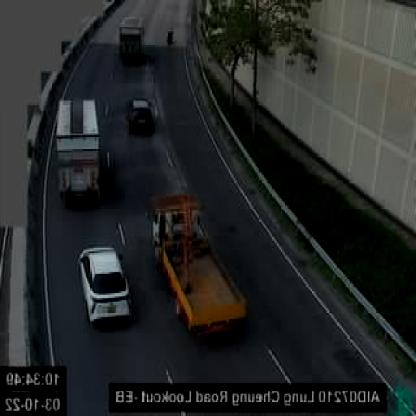Car: (79, 243, 133, 322), (129, 99, 153, 135)
Truck: (149, 194, 247, 333), (57, 97, 102, 205), (119, 14, 147, 61)
